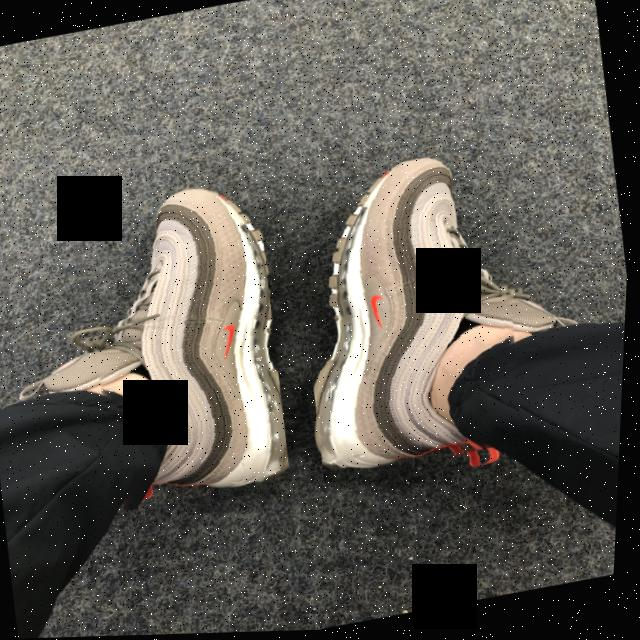shoe: (281, 146, 550, 487), (60, 177, 306, 517)
